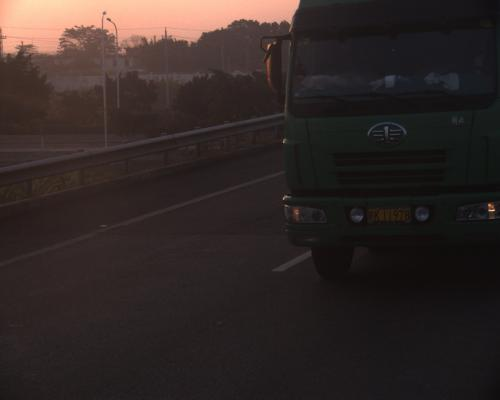Carplate: (363, 199, 416, 230)
